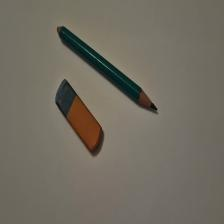eraser: (56, 79, 104, 154)
pencil: (58, 26, 159, 112)
